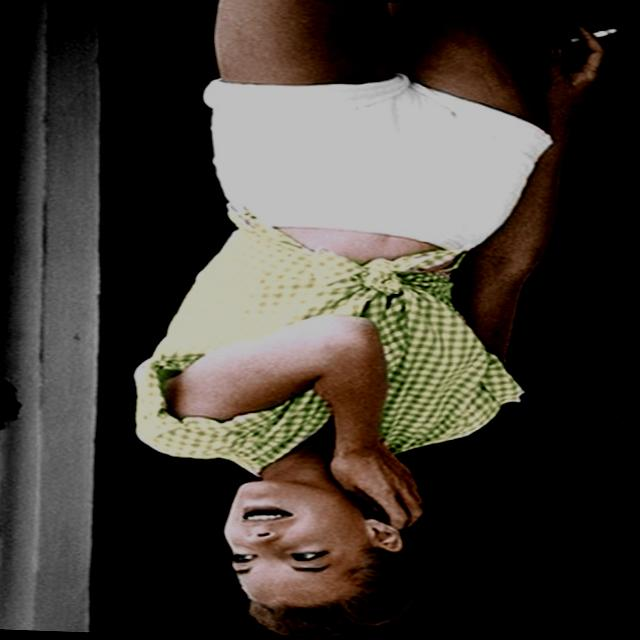smoke: (556, 22, 618, 52)
